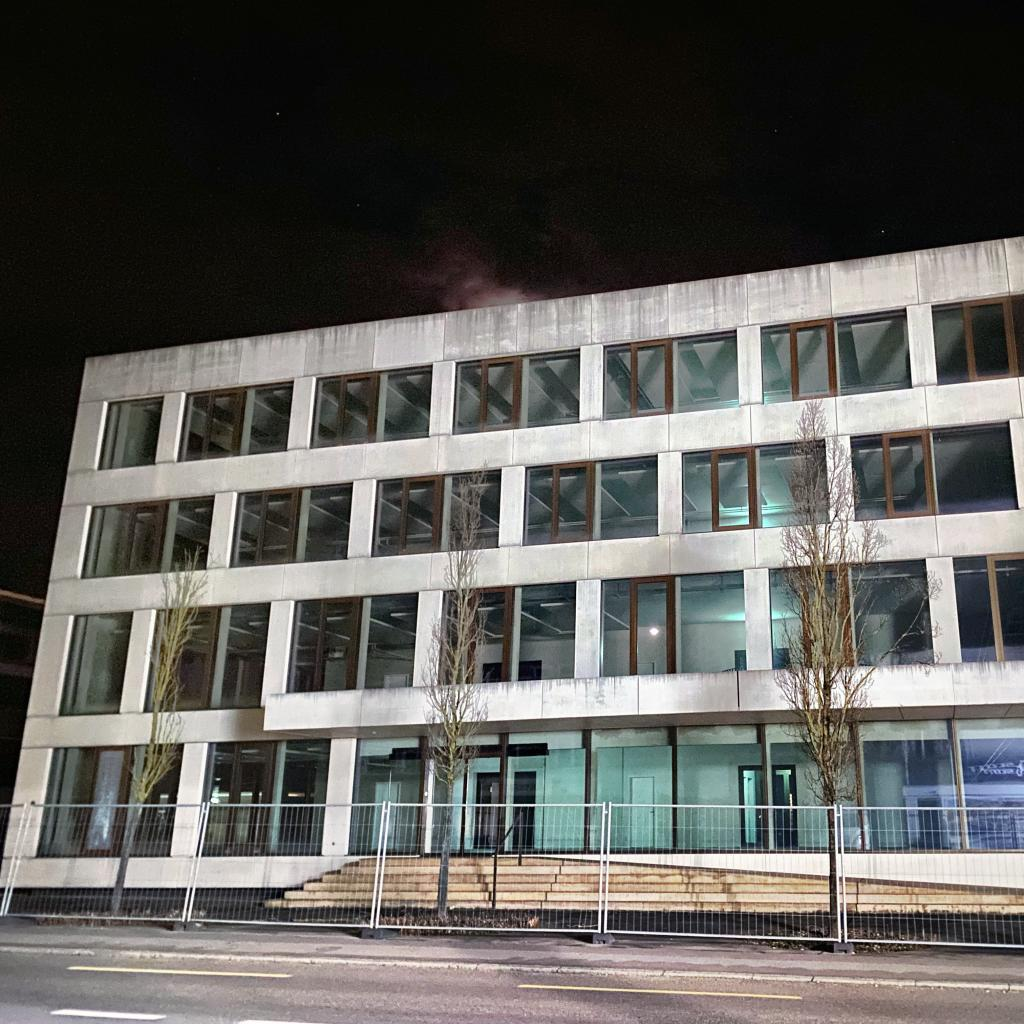facade: (0, 235, 1024, 944)
fence: (1, 803, 1024, 954)
street: (0, 921, 1024, 1024)
vegetation: (745, 394, 946, 953), (367, 458, 541, 936), (34, 541, 227, 927)
window: (348, 717, 1024, 856), (768, 558, 936, 669), (850, 420, 1019, 522), (36, 743, 184, 858), (196, 738, 331, 857), (600, 572, 748, 676), (437, 580, 575, 686), (761, 309, 912, 404), (682, 438, 831, 534), (143, 603, 270, 714), (288, 592, 419, 691), (602, 330, 740, 420), (523, 454, 657, 545), (371, 469, 501, 557), (80, 496, 214, 579), (452, 350, 580, 436), (310, 364, 433, 449), (229, 484, 354, 567), (176, 380, 293, 461), (932, 294, 1024, 385), (57, 611, 133, 717), (952, 552, 1024, 662), (97, 395, 164, 472)
